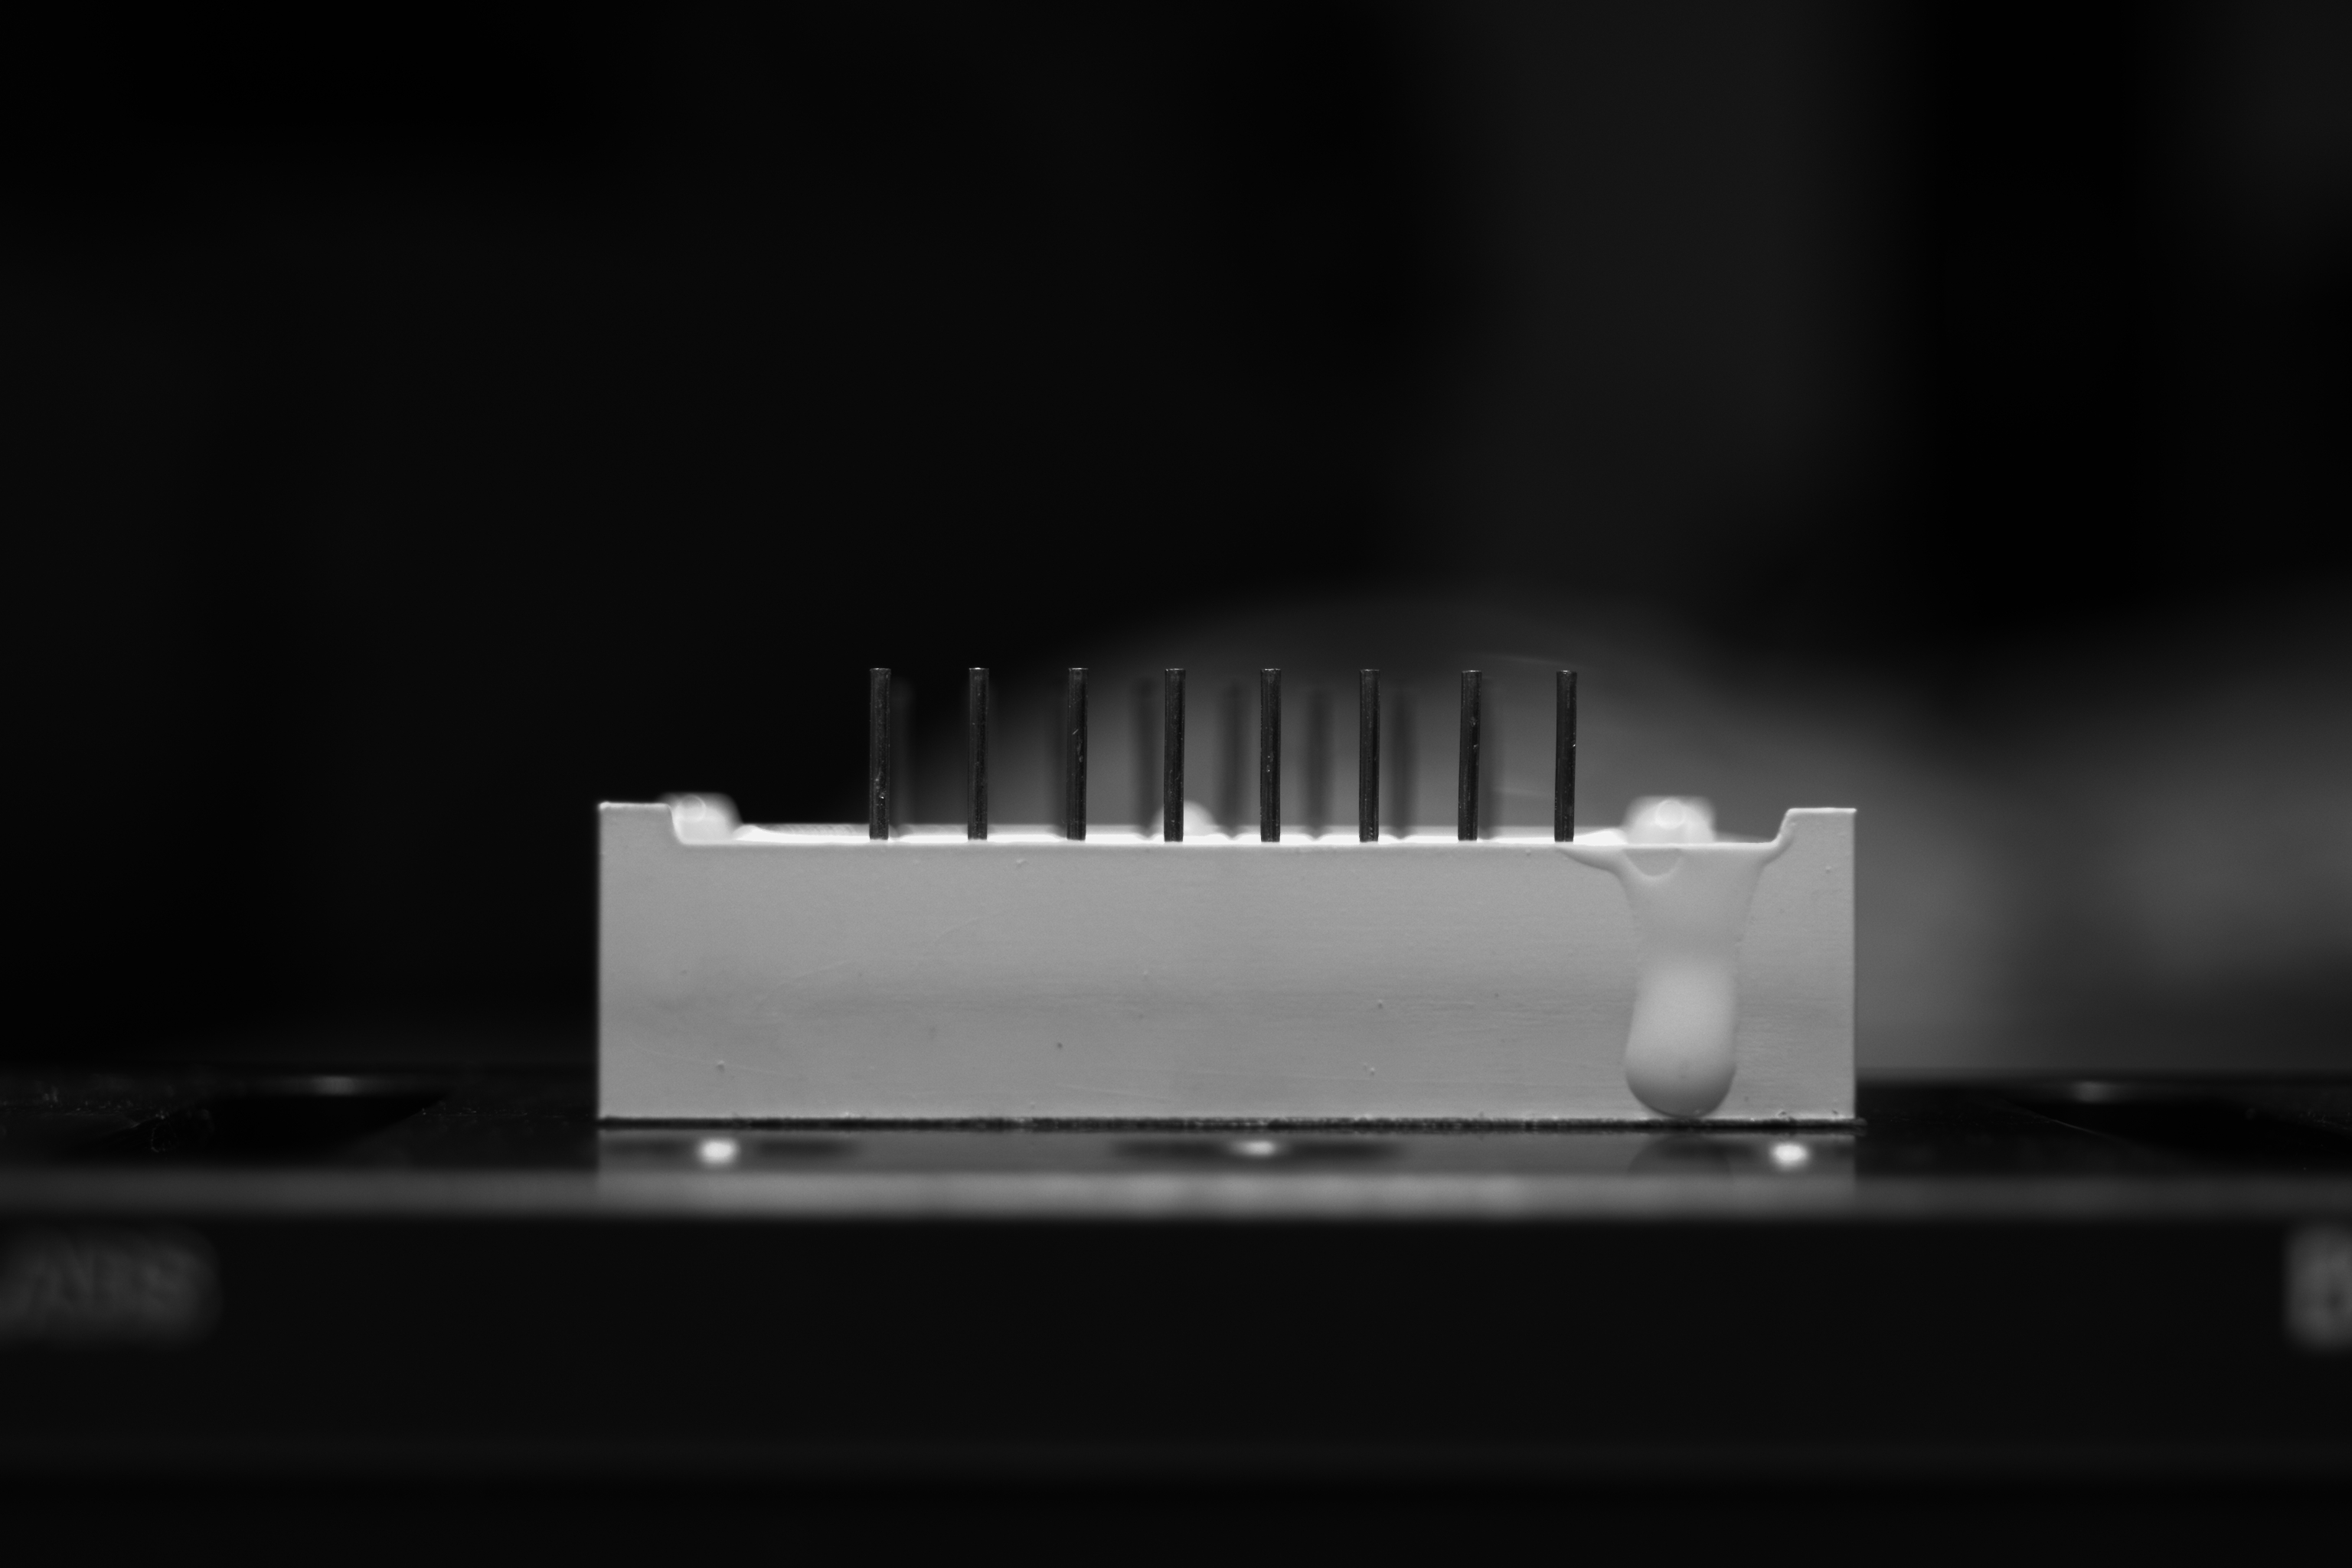glue: (1561, 845, 1799, 1122)
pin_inclined: (1454, 663, 1487, 845)
